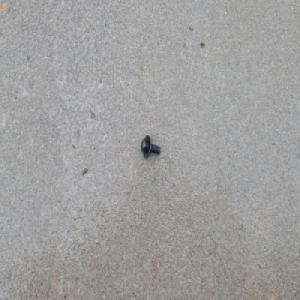BoltWasher: (140, 134, 160, 159)
